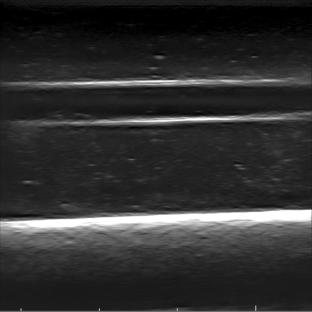vessel: (8, 77, 308, 128)
